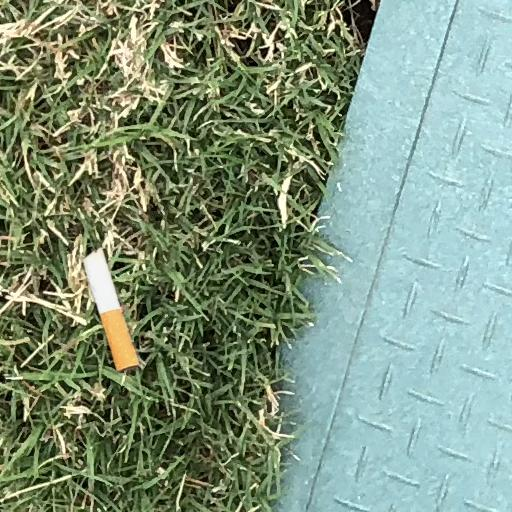smoke: (84, 248, 138, 371)
